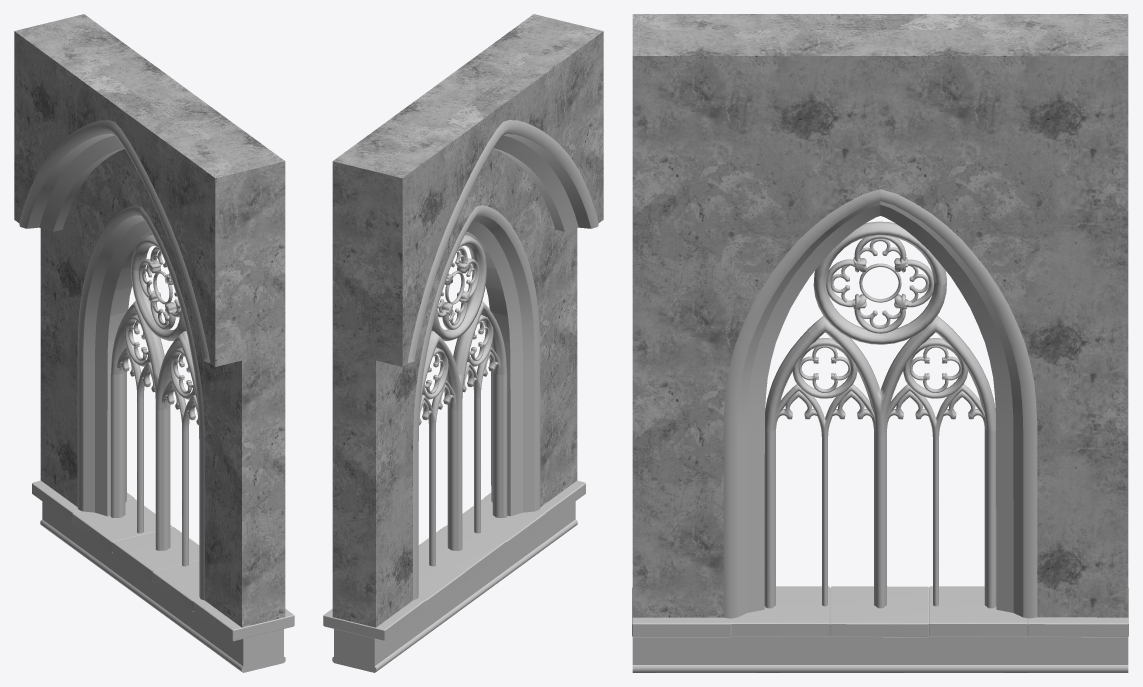
The model's file is SM_WindowWall_01a.fbx.
The picture shows the model from 3 angles, left to right: view 1: azimuth 30°, elevation 25°; view 2: azimuth 150°, elevation 25°; view 3: azimuth 270°, elevation 25°; orthographic projection. The views are drawn at different scales.
Visible parts, largest first — view 1: SM_WindowWall_01a_LOD0; view 2: SM_WindowWall_01a_LOD0; view 3: SM_WindowWall_01a_LOD0.
Boxes of the visible parts, left/top/right/bottom form: SM_WindowWall_01a_LOD0: left=14, top=14, right=294, bottom=672; SM_WindowWall_01a_LOD0: left=323, top=14, right=603, bottom=672; SM_WindowWall_01a_LOD0: left=632, top=14, right=1128, bottom=672.
Bounding box in the file's own units: 189 × 802 × 1100.
